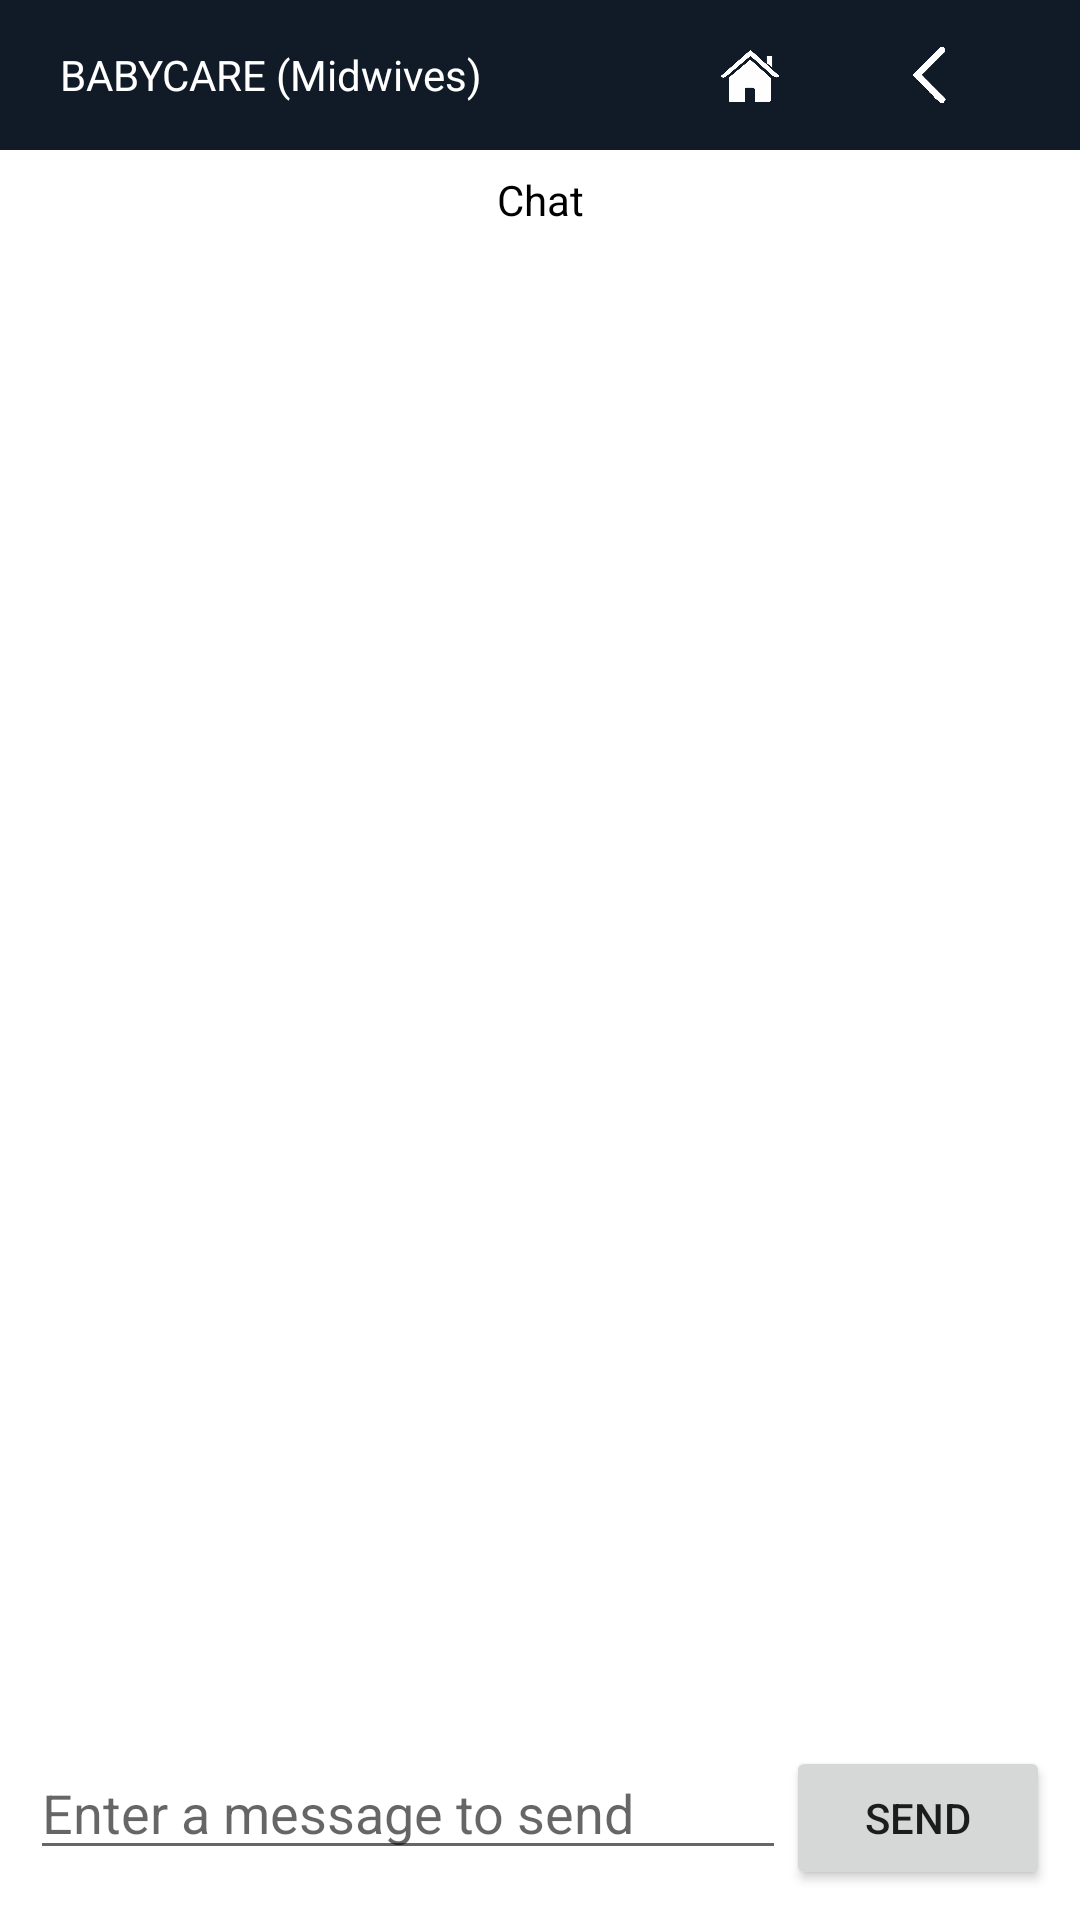

Where to tap for icons on this 1080x1920 app screen, as [x,y]:
back: [929,75]
home: [750,76]
